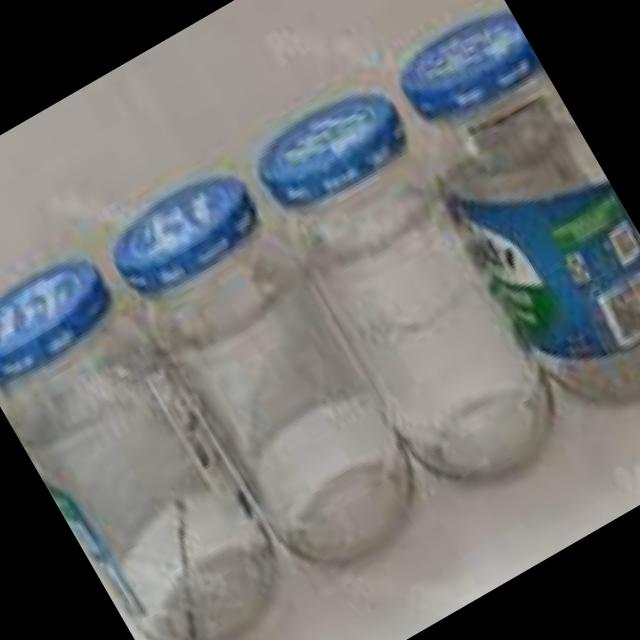ToplesKaca: (0, 3, 640, 640)
